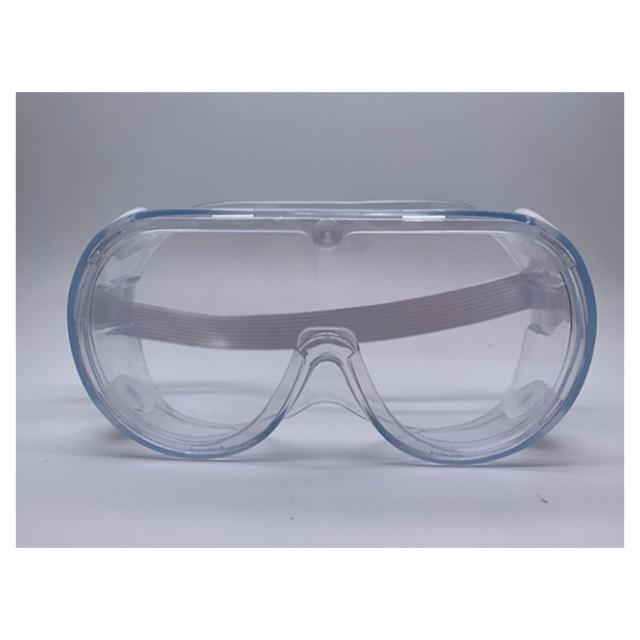Protective Glasses: (23, 144, 613, 506)
